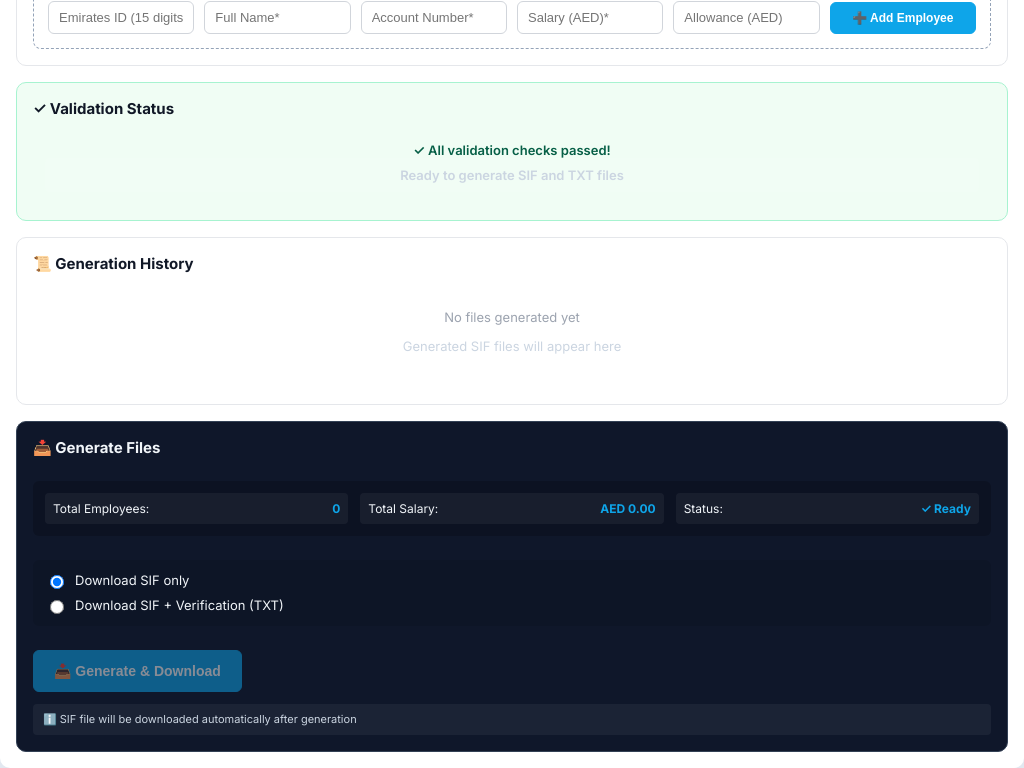
it: SIFPayrollForm › can switch download format to "both"
(page scrolled)
Click the radio button labelled "Download SIF + Verification (TXT)". click: [57, 607]
box: [50,600,64,614]
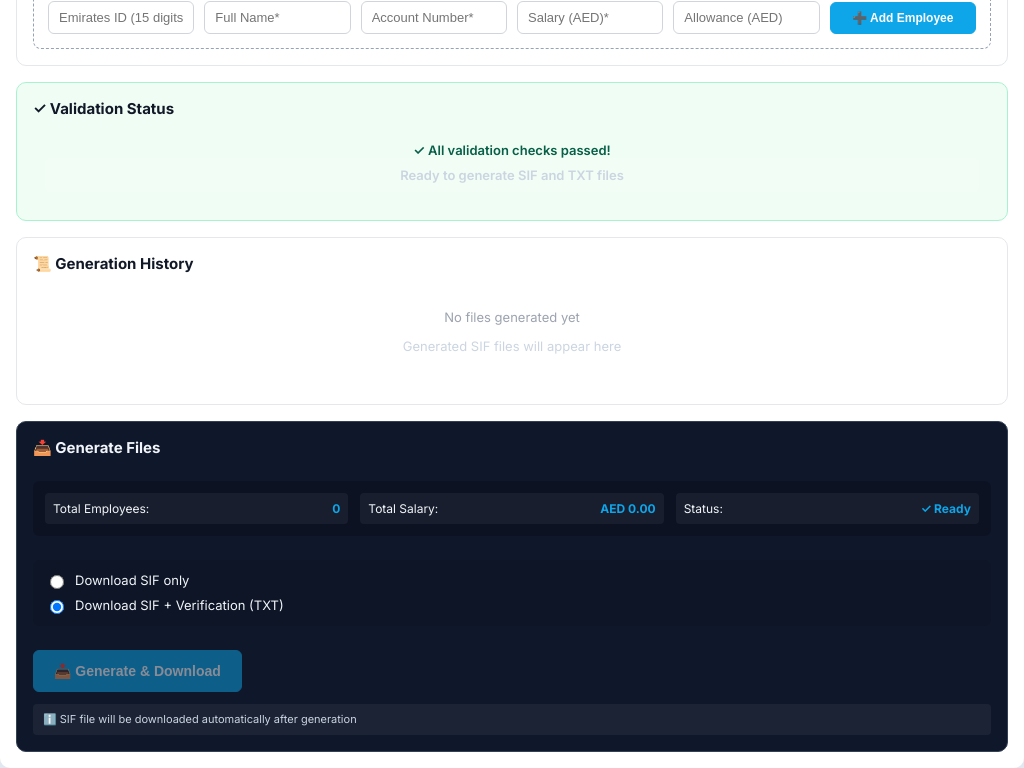
Now the radio button labelled "Download SIF + Verification (TXT)" is checked, box [50,600,64,614]
Now the radio button labelled "Download SIF only" is not checked, box [50,575,64,589]
